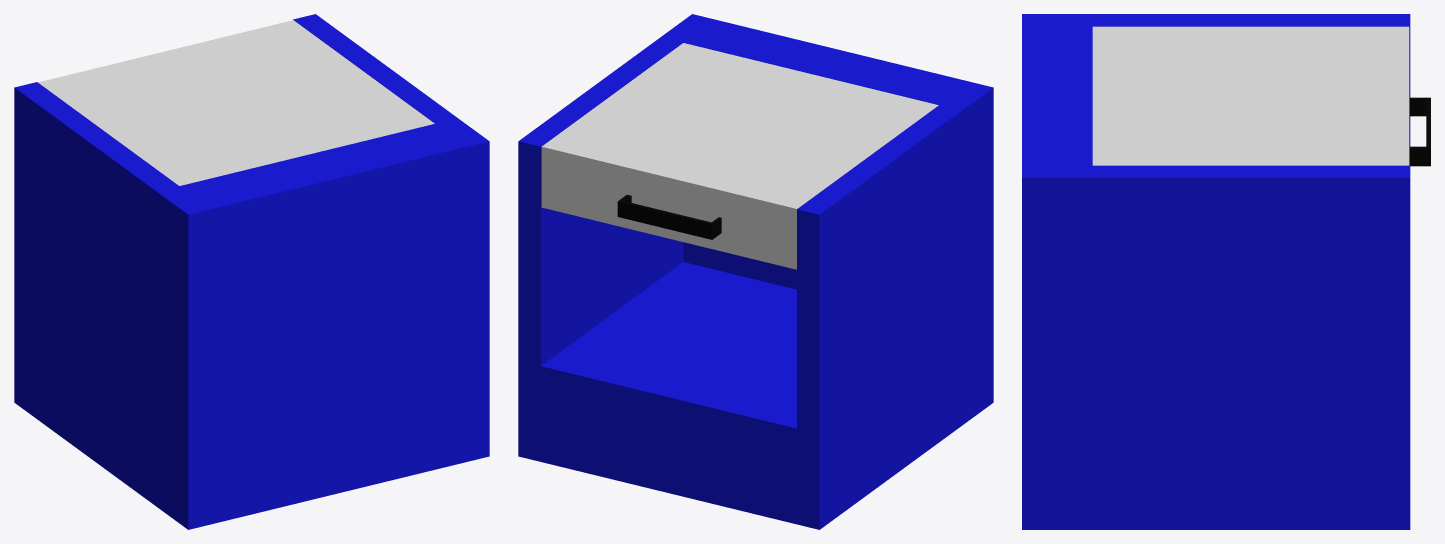
File: machine.glb
3 views of the same model, side by side, from view 1: azimuth 30°, elevation 25°; view 2: azimuth 150°, elevation 25°; view 3: azimuth 270°, elevation 25° (orthographic). The views are drawn at different scales.
Parts seen in each view (by area): view 1: Cube, Plane; view 2: Cube, Plane, Cube.001; view 3: Cube, Plane, Cube.001.
Part boxes in pixels (bbox=[...]): Cube: bbox=[14, 14, 489, 529]; Plane: bbox=[38, 20, 434, 185]; Cube: bbox=[518, 14, 993, 529]; Plane: bbox=[541, 43, 938, 269]; Cube.001: bbox=[617, 195, 721, 239]; Cube: bbox=[1022, 14, 1410, 529]; Plane: bbox=[1092, 26, 1409, 165]; Cube.001: bbox=[1410, 97, 1430, 166].
Size of the model in its own units: 2 by 2 by 2.11.
